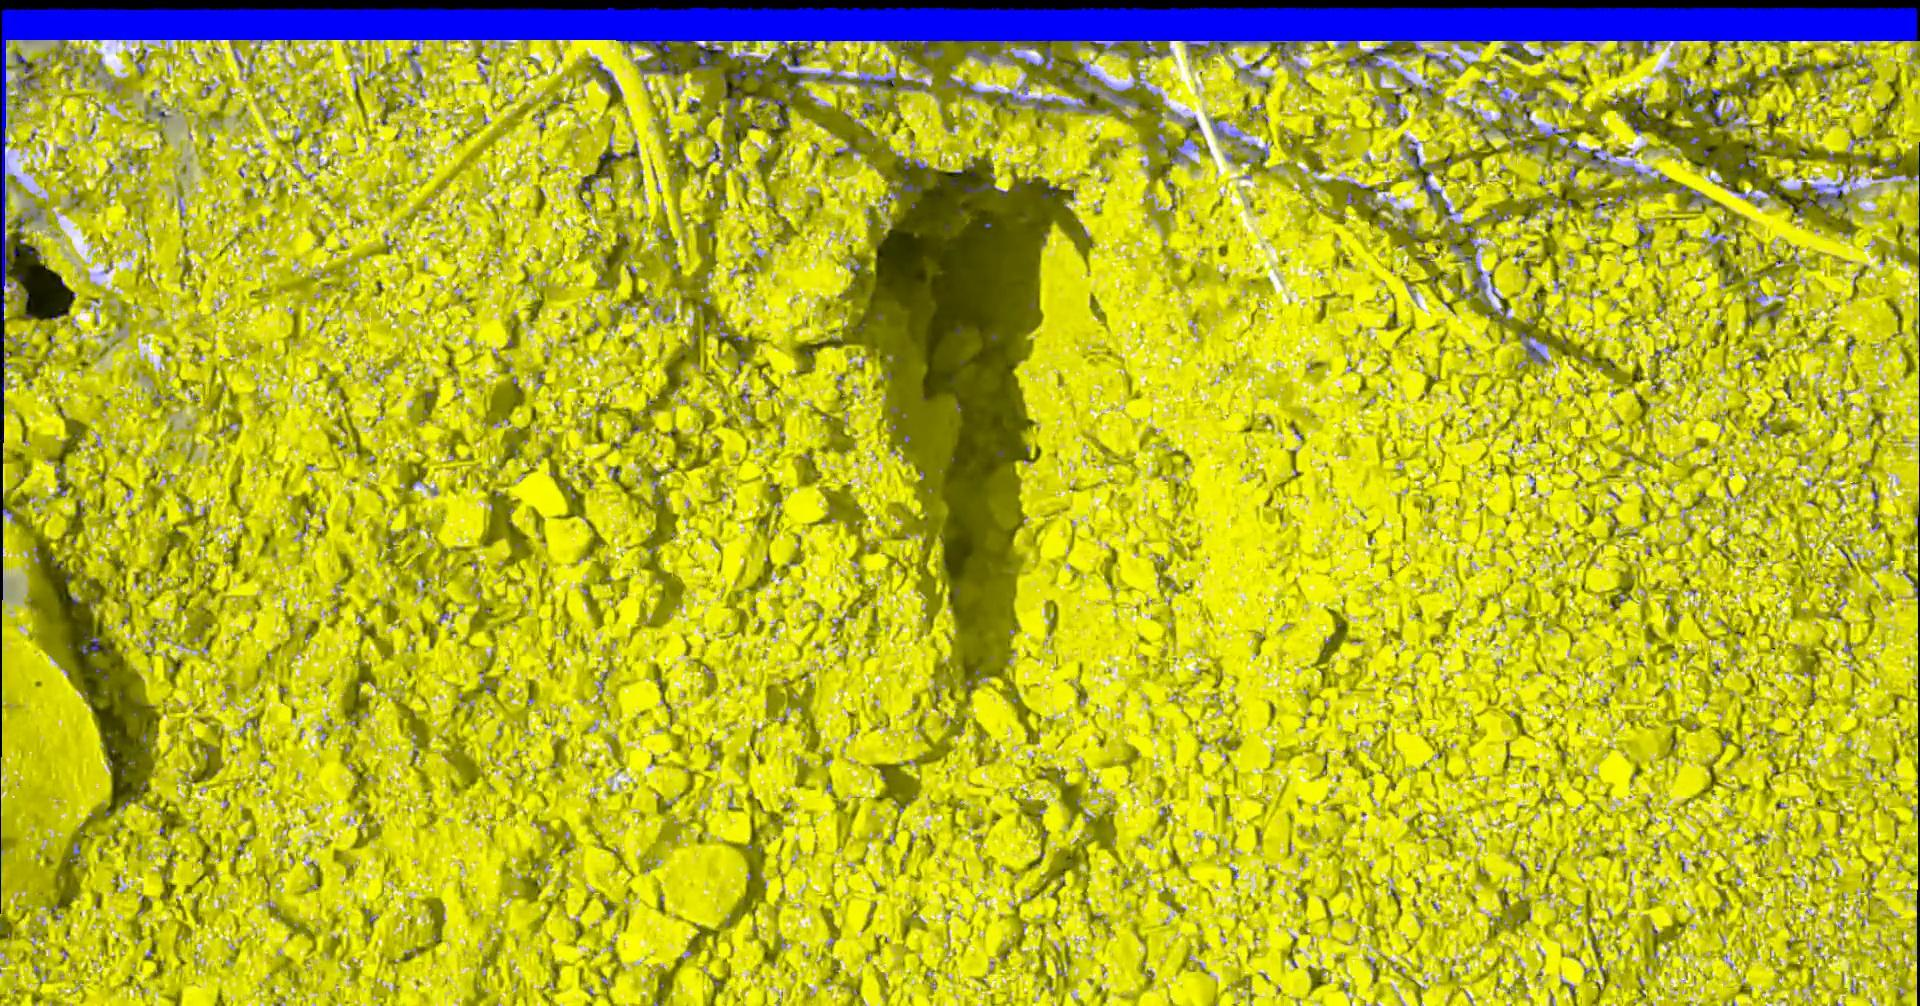ant: (730, 53, 776, 81), (1804, 184, 1843, 205), (79, 630, 109, 654), (688, 44, 721, 66), (1707, 89, 1723, 124), (1418, 171, 1441, 197), (776, 62, 801, 81), (596, 65, 613, 90), (1364, 46, 1385, 66), (963, 183, 994, 193), (902, 175, 921, 192), (786, 48, 803, 66), (580, 174, 597, 191), (875, 79, 895, 86)
